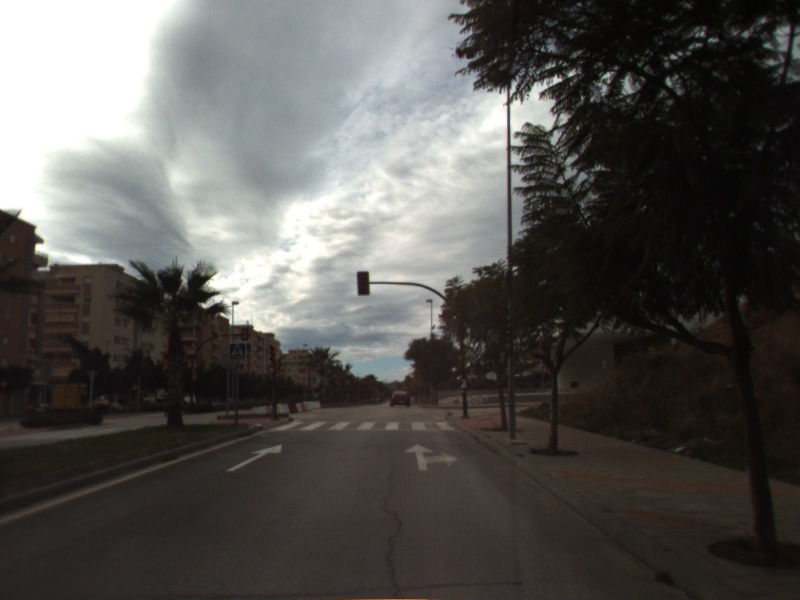STRAIGHT: (224, 442, 284, 473)
STRAIGHT_RIGHT: (402, 441, 459, 472)
